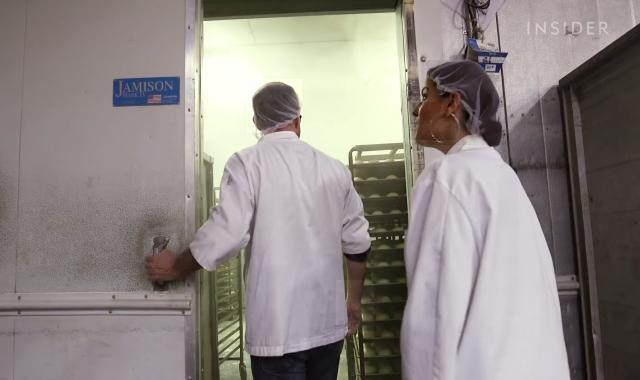gloves: (427, 60, 506, 145), (247, 79, 302, 133)
no_apron: (139, 244, 203, 294), (336, 280, 374, 333)
no_hairnet: (409, 102, 455, 140)
